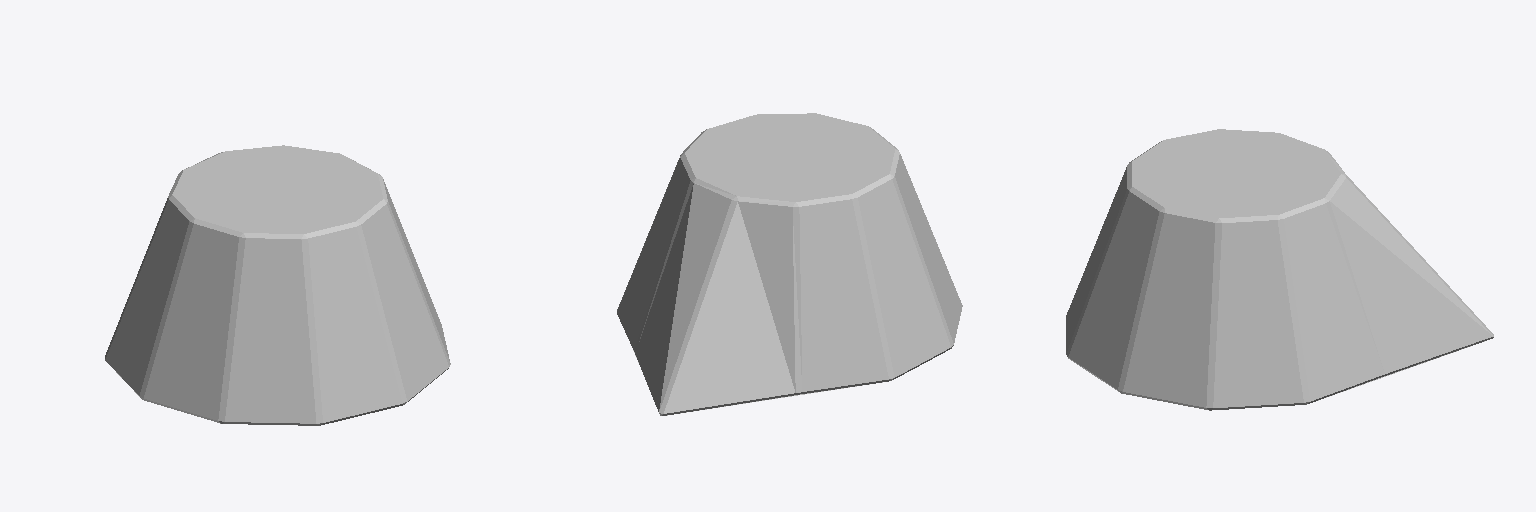
The model's file is Large knob.obj.
3 renders of one model, left to right at view 1: azimuth 30°, elevation 25°; view 2: azimuth 150°, elevation 25°; view 3: azimuth 270°, elevation 25°, orthographic.
Parts seen in each view (by area): view 1: Cylinder; view 2: Cylinder; view 3: Cylinder.
Part boxes in pixels (bbox=[...]): Cylinder: bbox=[105, 145, 450, 425]; Cylinder: bbox=[617, 113, 962, 415]; Cylinder: bbox=[1066, 129, 1493, 410].
Size of the model in its own units: 3.92 by 2.05 by 4.84.